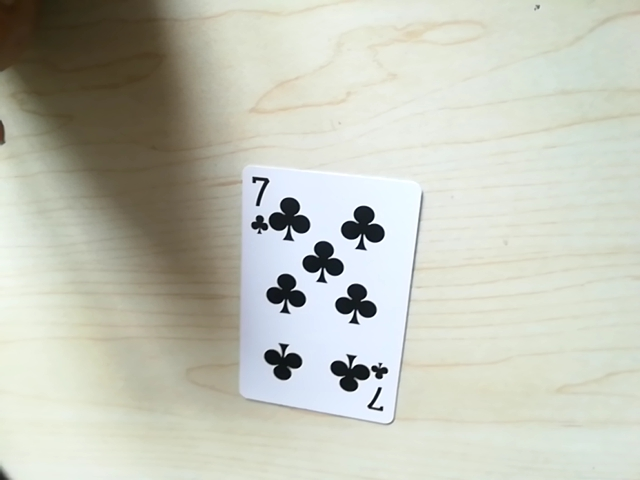mh 7: (239, 171, 279, 221), (360, 369, 394, 421)
